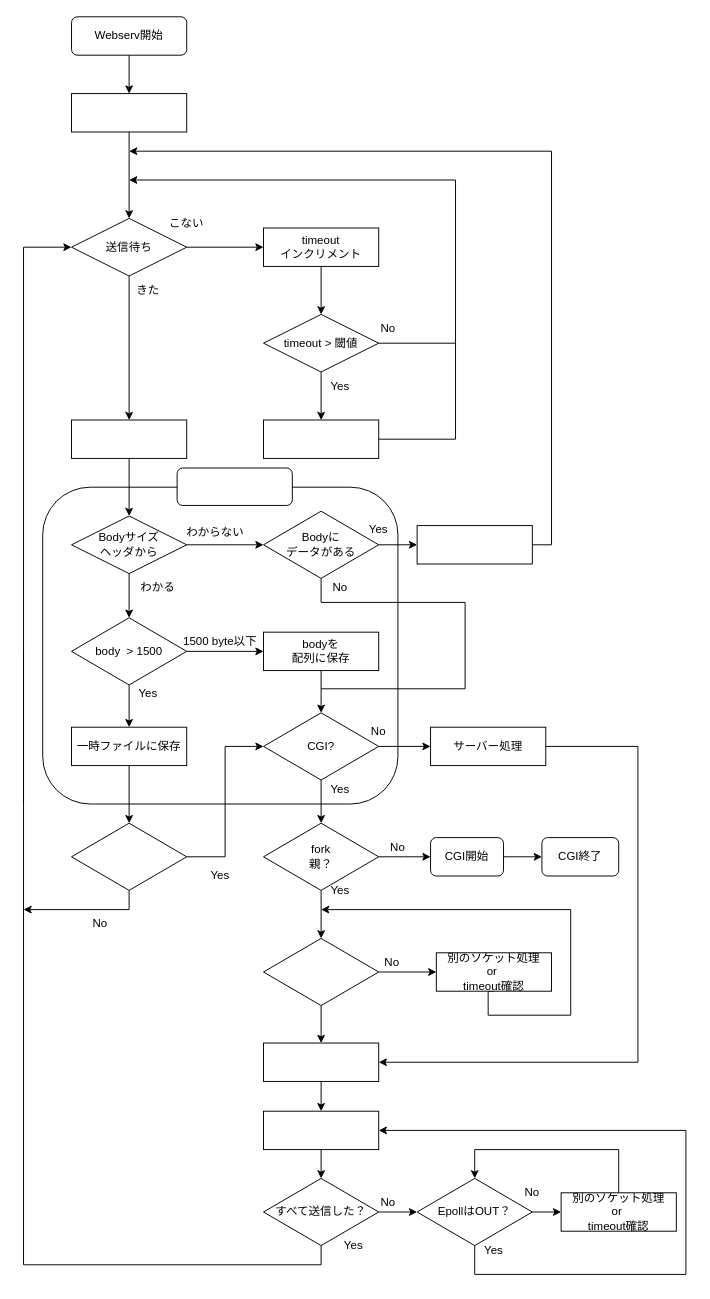
Some shapes in this 710 by 1299 pixel diagram are drawn without their labels. Here are the shapes that lost their labels. From the top down, the centre of each, then its label:
At (x=129, y=112): "ソケット通信 初期化".
At (x=129, y=438): "Request ヘッダーパース".
At (x=321, y=438): "ソケット クローズ".
At (x=234, y=486): "ヘッダー解析".
At (x=474, y=544): "エラー レスポンス送信".
At (x=129, y=856): "Bodyのすべて 読み終わった？".
At (x=321, y=971): "子プロセス 終了？".
At (x=321, y=1061): "Request作成".
At (x=321, y=1130): "Request送信".
